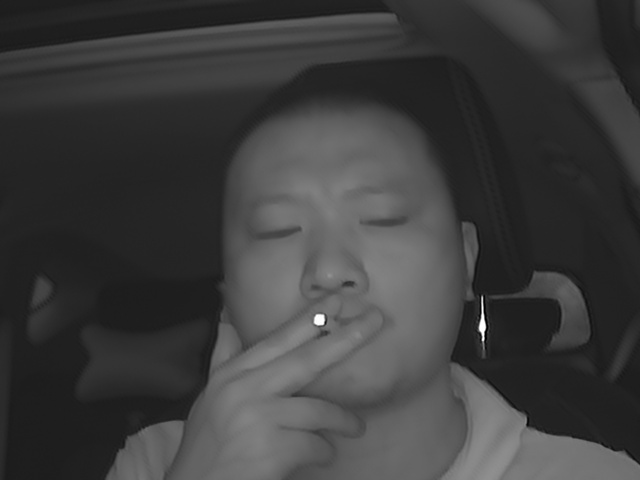hand: (230, 294, 383, 463)
